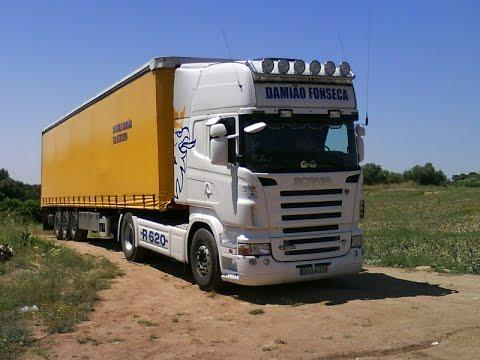vehicle: (41, 56, 366, 291)
